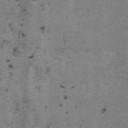oxide scale of temperature system: (0, 0, 75, 114), (101, 108, 108, 114), (46, 124, 50, 128)
